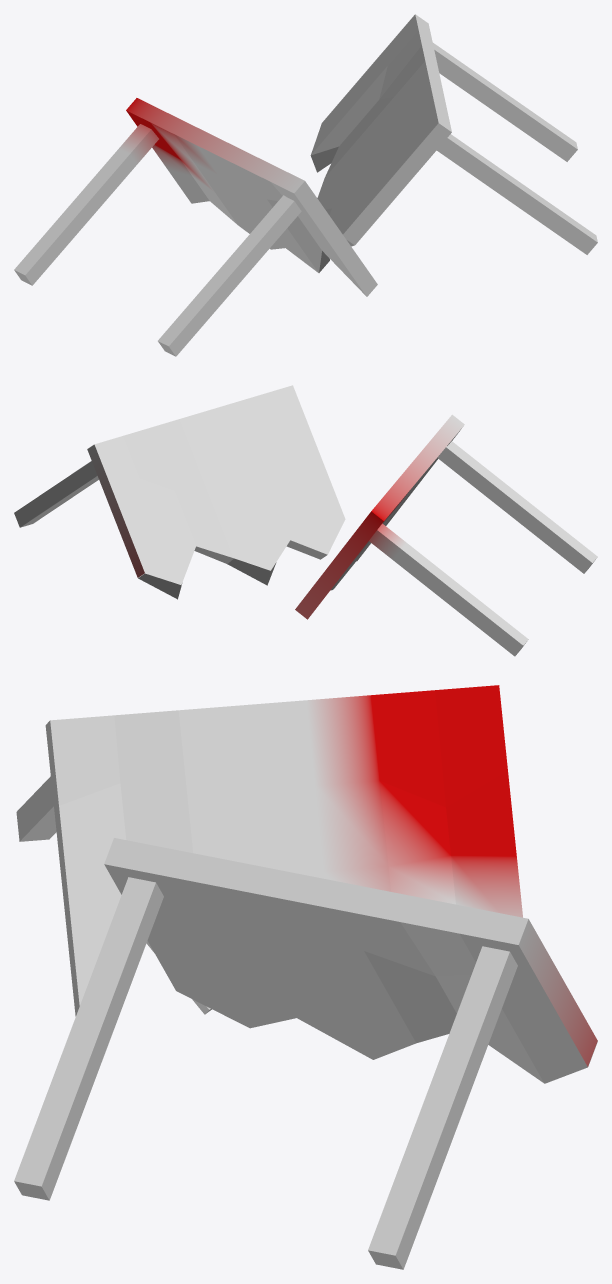
The model's file is FBX_Table_broken.fbx.
The picture shows the model from 3 angles, top to bottom: view 1: azimuth 30°, elevation 25°; view 2: azimuth 150°, elevation 25°; view 3: azimuth 270°, elevation 25°; orthographic projection. The views are drawn at different scales.
Parts seen in each view (by area): view 1: FBX_Table_broken; view 2: FBX_Table_broken; view 3: FBX_Table_broken.
Boxes of the visible parts, x1,y1,x2,y2 form: FBX_Table_broken: (14,14,597,356); FBX_Table_broken: (14,385,597,656); FBX_Table_broken: (14,685,597,1269).
Bounding box in the file's own units: 370 × 95.01 × 192.
